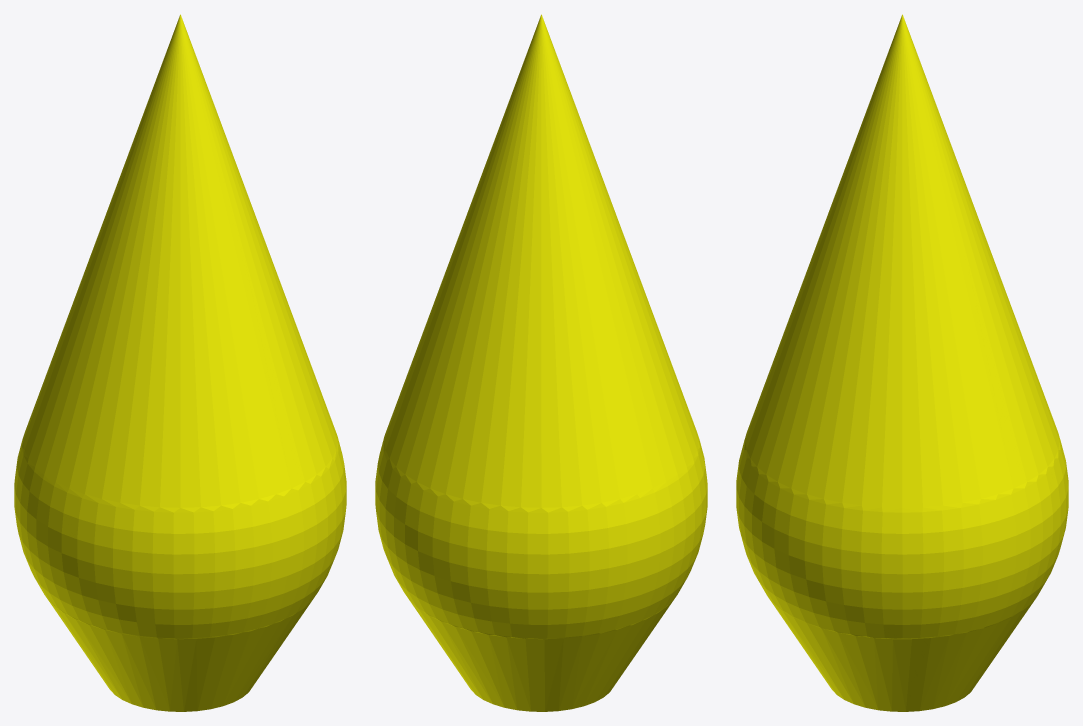
The model's file is flame.obj.
3 views of the same model, side by side, from view 1: azimuth 30°, elevation 25°; view 2: azimuth 150°, elevation 25°; view 3: azimuth 270°, elevation 25° (orthographic).
Visible parts, largest first — view 1: Flame; view 2: Flame; view 3: Flame.
Part boxes in pixels (<box>): Flame: <box>14,14,346,711</box>; Flame: <box>375,14,707,711</box>; Flame: <box>736,14,1068,711</box>.
Size of the model in its own units: 0.7571 by 1.67 by 0.7556.
